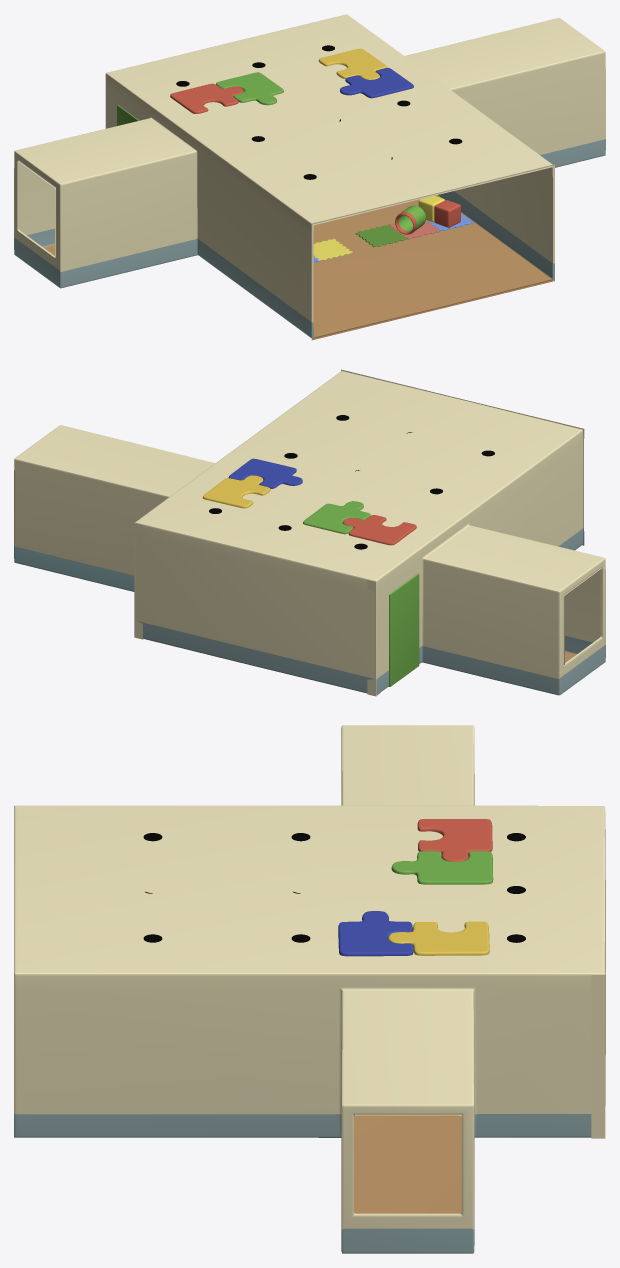
File: multisaberes.glb
3 renders of one model, top to bottom at view 1: azimuth 30°, elevation 25°; view 2: azimuth 150°, elevation 25°; view 3: azimuth 270°, elevation 25°, orthographic. The views are drawn at different scales.
Parts seen in each view (by area): view 1: Box005, Object001, Object002, Box012, Cylinder001, Box011, Box009; view 2: Box005, Box015, Object001, Object002, Box004, Box006; view 3: Box005, Object002, Object001, Box006.
Boxes of the visible parts, x1,y1,x2,y2 form: Box005: (14,14,605,340); Object001: (170,72,283,113); Object002: (318,48,413,98); Box012: (355,225,407,247); Cylinder001: (395,205,426,234); Box011: (434,200,460,227); Box009: (313,239,352,260); Box005: (14,369,605,695); Box015: (388,573,419,686); Object001: (303,501,416,545); Object002: (202,458,302,508); Box004: (367,579,380,696); Box006: (134,522,143,639); Box005: (14,725,605,1253); Object002: (338,911,489,956); Object001: (391,819,493,884); Box006: (591,969,605,1138).
Size of the model in its own units: 8.08 by 1.67 by 5.3.
